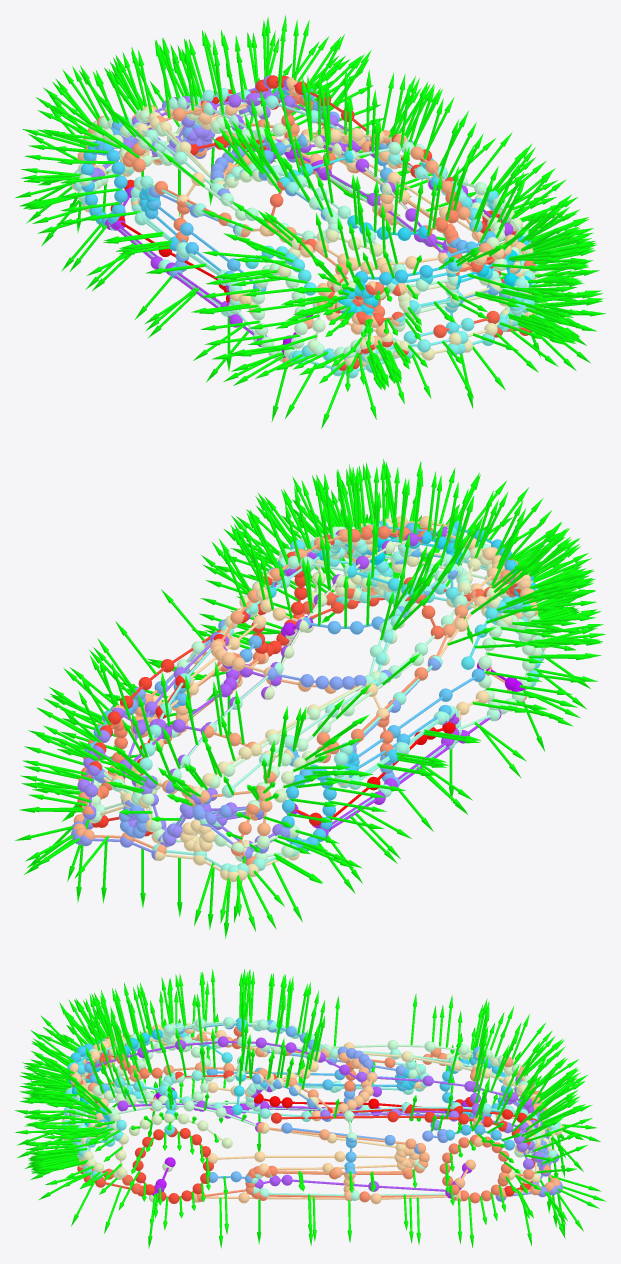
File: robbins_car1.gltf
The picture shows the model from 3 angles, top to bottom: view 1: azimuth 30°, elevation 25°; view 2: azimuth 150°, elevation 25°; view 3: azimuth 270°, elevation 25°; orthographic projection. The views are drawn at different scales.
Bounding box in the file's own units: 0.597 × 0.429 × 1.07.
